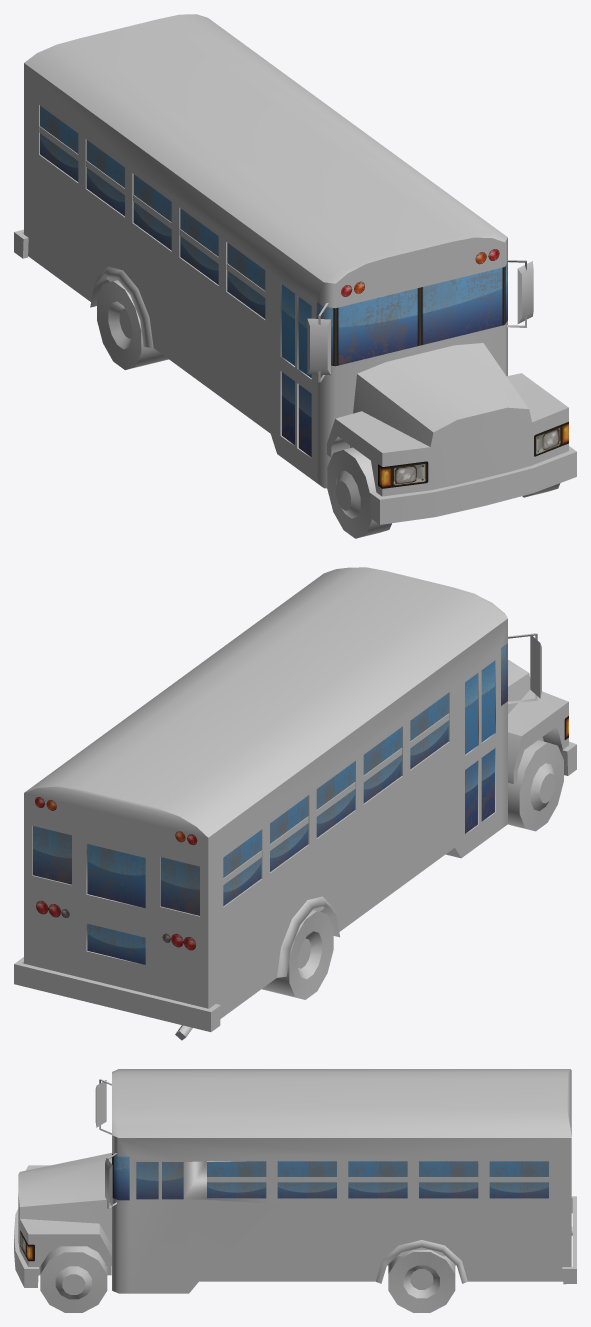
Rendered from Veh_SchoolBus.FBX.
3 renders of one model, top to bottom at view 1: azimuth 30°, elevation 25°; view 2: azimuth 150°, elevation 25°; view 3: azimuth 270°, elevation 25°, orthographic. The views are drawn at different scales.
Parts seen in each view (by area): view 1: Veh_SchoolBus, roof, glass_windshieldFront, wheel_frontR, wheel_backR, glass_door_front02, glass_door_front01, glass_sideR03, glass_sideR02, glass_sideR01, glass_sideR05, glass_sideR04 (+4 smaller); view 2: Veh_SchoolBus, roof, door_rear, glass_door_rear, wheel_frontR, wheel_backR, glass_rearR, glass_rearL, glass_door_front01, glass_door_front02, glass_sideR03, glass_sideR01 (+5 smaller); view 3: Veh_SchoolBus, roof, wheel_frontL, wheel_backL, glass_sideL03, glass_sideL05, glass_sideL04, glass_sideL02, glass_sideL01, glass_frontL, glass_windshieldFront.
Boxes of the visible parts, x1,y1,x2,y2 form: Veh_SchoolBus: [14, 63, 576, 524]; roof: [24, 14, 507, 283]; glass_windshieldFront: [316, 262, 507, 366]; wheel_frontR: [327, 447, 391, 538]; wheel_backR: [97, 280, 168, 370]; glass_door_front02: [281, 284, 294, 444]; glass_door_front01: [298, 297, 311, 457]; glass_sideR03: [133, 174, 171, 250]; glass_sideR02: [180, 208, 218, 284]; glass_sideR01: [227, 243, 265, 318]; glass_sideR05: [40, 105, 78, 181]; glass_sideR04: [86, 140, 124, 216]; Veh_SchoolBus: [14, 619, 576, 1040]; roof: [24, 567, 507, 837]; door_rear: [80, 837, 151, 981]; glass_door_rear: [87, 844, 145, 964]; wheel_frontR: [508, 740, 563, 831]; wheel_backR: [262, 910, 333, 999]; glass_rearR: [160, 857, 199, 915]; glass_rearL: [33, 826, 71, 884]; glass_door_front01: [481, 661, 494, 821]; glass_door_front02: [465, 673, 477, 833]; glass_sideR03: [316, 761, 354, 837]; glass_sideR01: [410, 693, 448, 769]; Veh_SchoolBus: [14, 1079, 576, 1293]; roof: [112, 1069, 571, 1137]; wheel_frontL: [40, 1246, 107, 1312]; wheel_backL: [388, 1250, 455, 1312]; glass_sideL03: [348, 1161, 407, 1198]; glass_sideL05: [489, 1161, 548, 1198]; glass_sideL04: [419, 1161, 478, 1198]; glass_sideL02: [277, 1161, 336, 1198]; glass_sideL01: [207, 1161, 266, 1198]; glass_frontL: [136, 1162, 183, 1199]; glass_windshieldFront: [112, 1154, 129, 1200].
Size of the model in its own units: 303 by 307 by 852.
